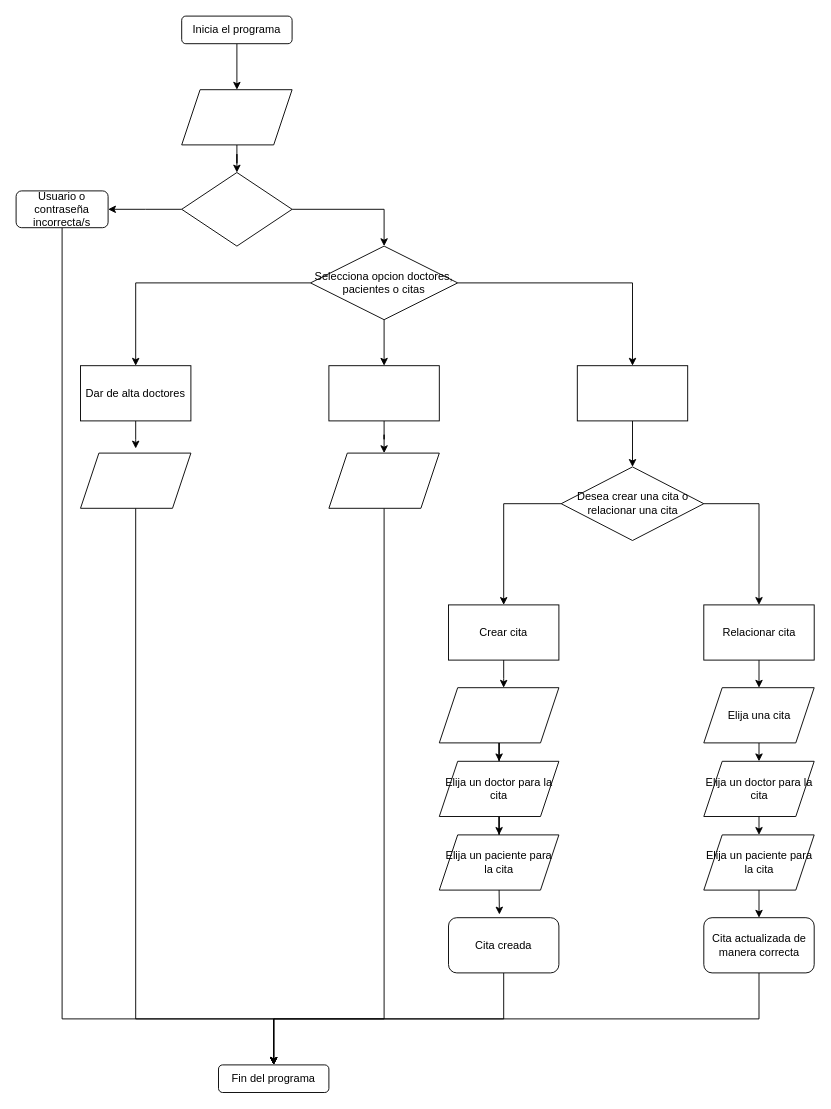
The diagram is 831 pixels wide and 1109 high, and some of its shapes have lost their labels. Here are the shapes that lost their labels. From the top down, the centre of each, then its label:
At [236,117]: "Ingresar usuario y contraseña".
At [236,209]: "Verificar credenciales".
At [383,393]: "Dar de alta pacientes".
At [632,393]: "Citas".
At [135,480]: "Ingrese datos del nuevo doctor".
At [383,480]: "Ingrese datos del nuevo paciente".
At [498,715]: "Ingrese los detalles de la cita".
